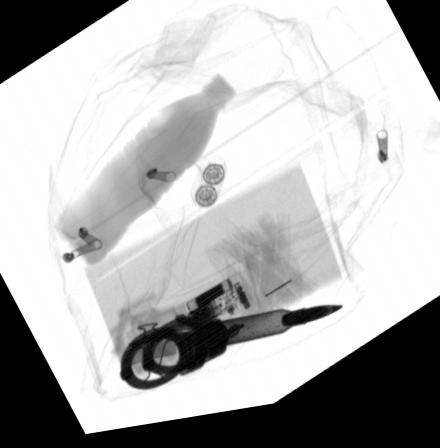Bullet: (195, 315, 344, 356)
HandCuffs: (117, 320, 246, 394)
